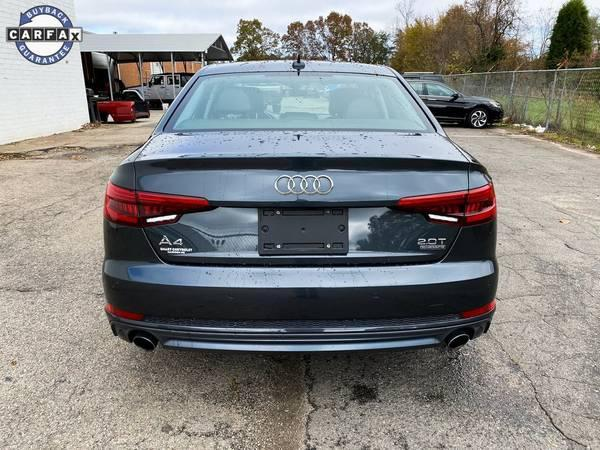Left_Taillight: (101, 180, 208, 229)
Rear_Bumper: (101, 218, 498, 349)
Rear_Windshield: (159, 69, 438, 134)
Right_Taillight: (394, 182, 495, 228)
Roof: (196, 57, 400, 78)
Tailgate: (108, 129, 487, 270)
